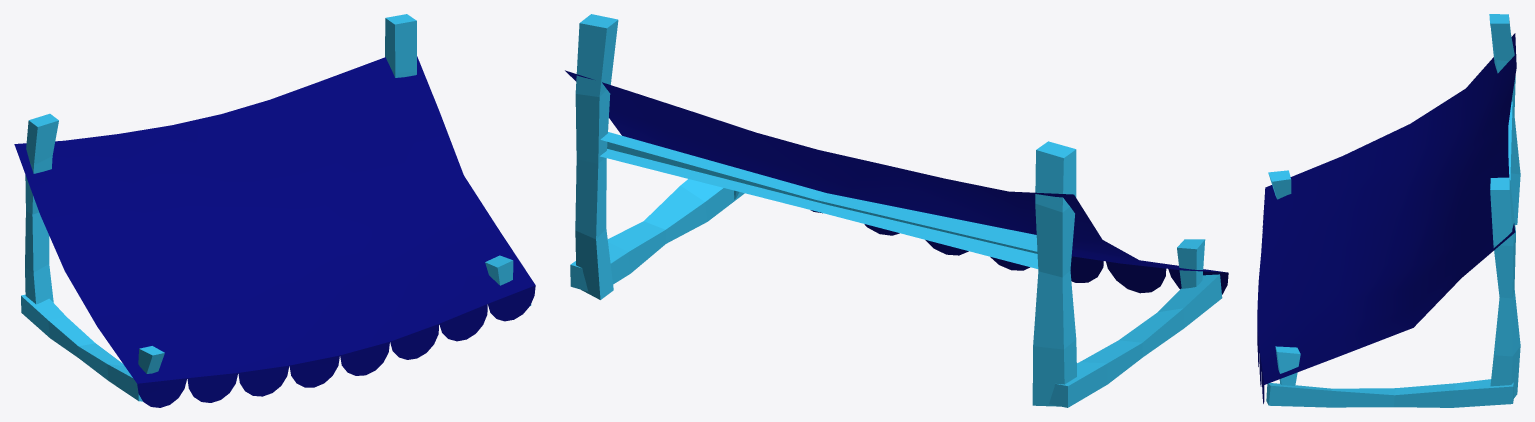
Rendered from Material_roof_big.fbx.
3 views of the same model, side by side, from view 1: azimuth 30°, elevation 25°; view 2: azimuth 150°, elevation 25°; view 3: azimuth 270°, elevation 25° (orthographic). The views are drawn at different scales.
Visible parts, largest first — view 1: Material_roof_big; view 2: Material_roof_big; view 3: Material_roof_big.
Part boxes in pixels (left/top/right/bottom): Material_roof_big: left=14, top=14, right=535, bottom=407; Material_roof_big: left=565, top=14, right=1228, bottom=407; Material_roof_big: left=1257, top=14, right=1520, bottom=407.
Size of the model in its own units: 464 by 257 by 257.
